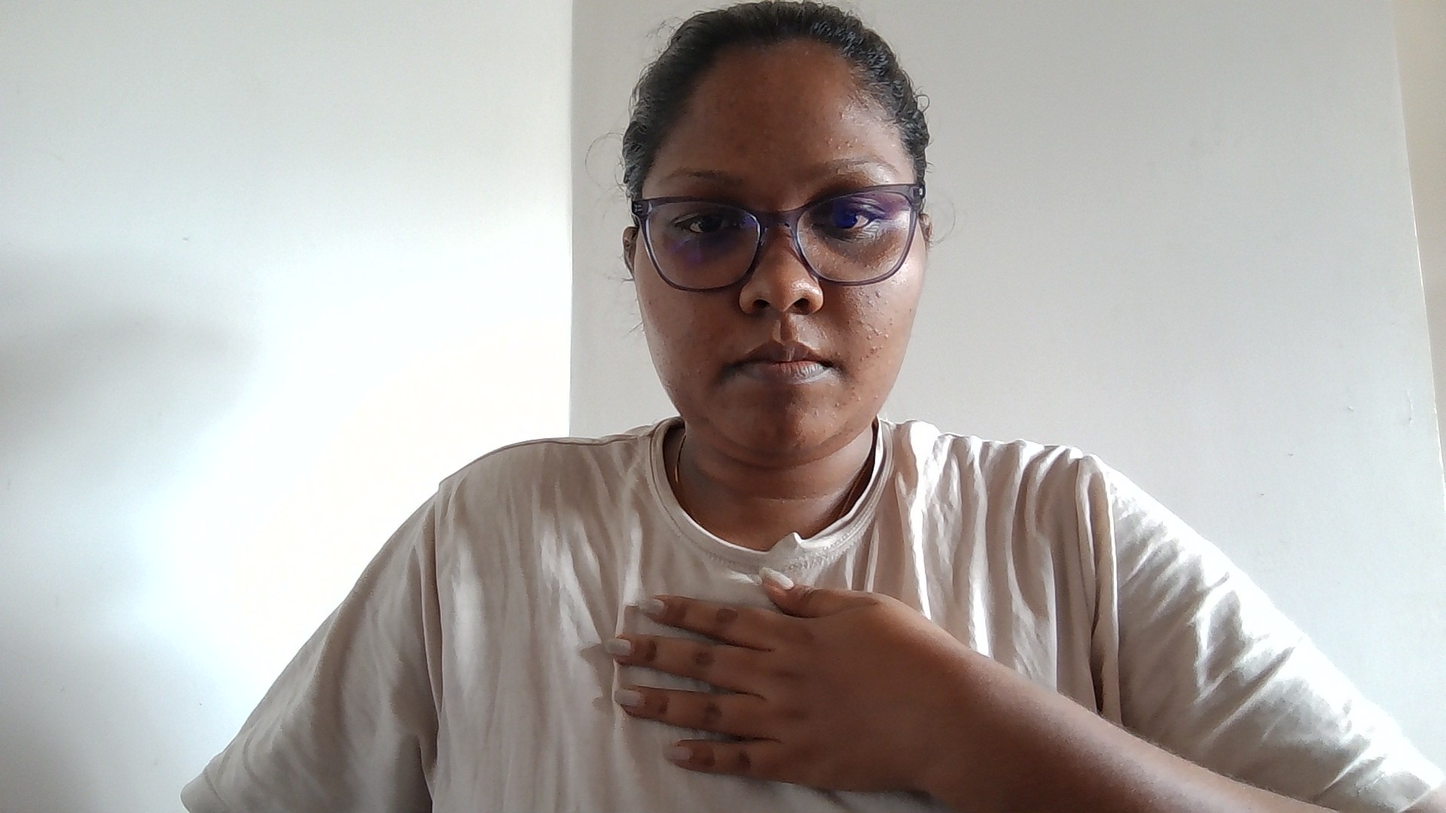Please: (582, 514, 1092, 813)
